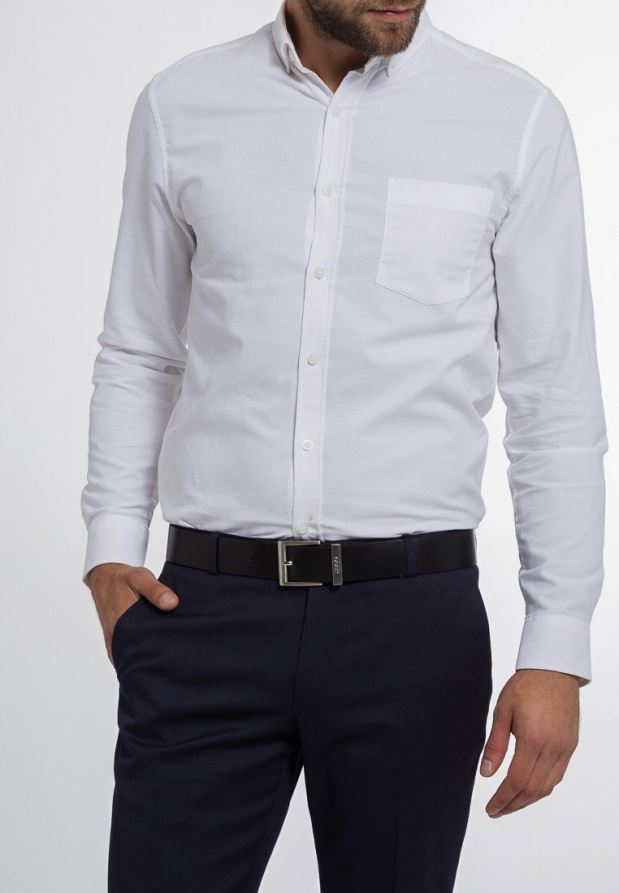F_belt: (145, 512, 470, 589)
F_dress pants: (93, 604, 502, 874)
F_shirt: (68, 1, 606, 685)
